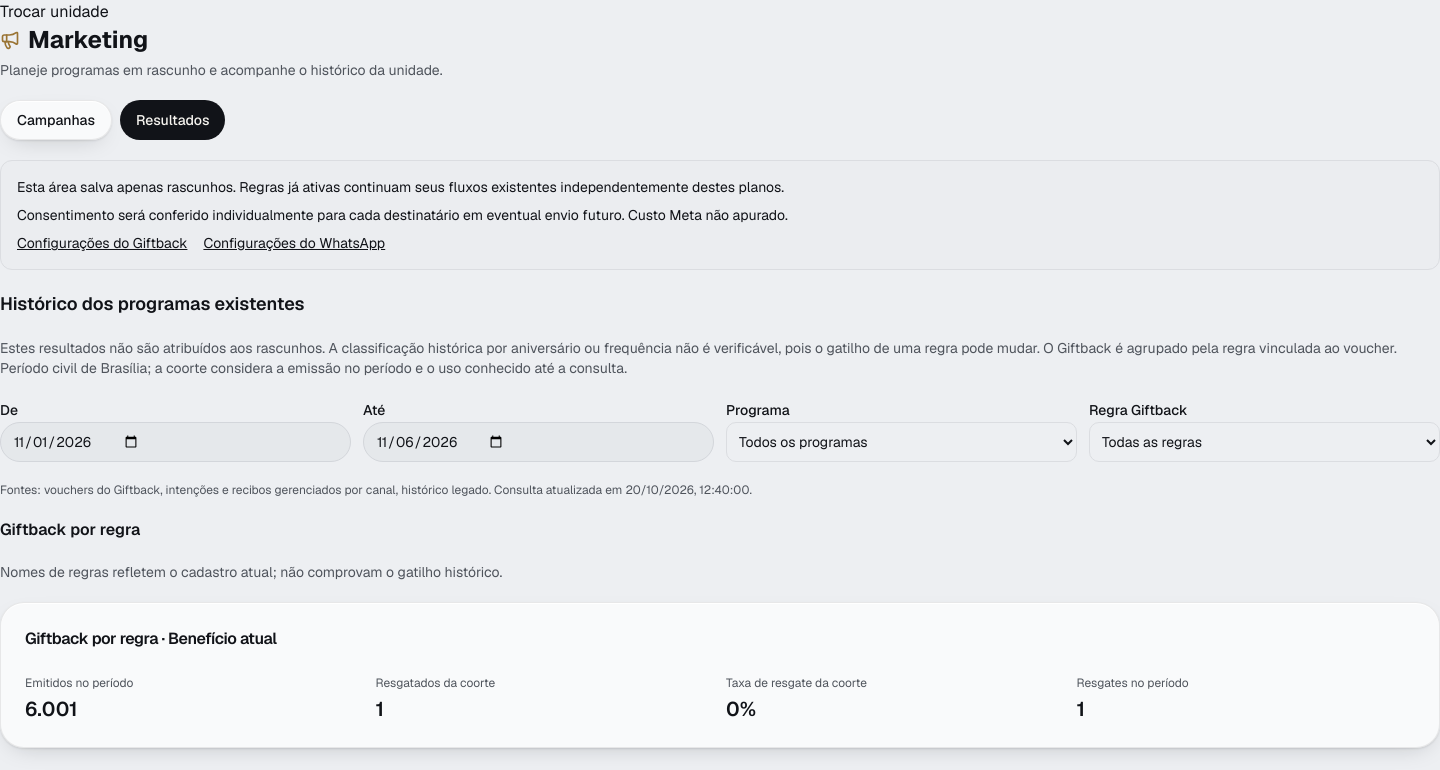
Marketing › agrupa Giftback por regra sem atribuir gatilho e preserva pesquisa ao filtrar regra
Expected: the text "classificação histórica por aniversário ou frequência não é verificável" is shown, [0,339,1397,377]
Expected: the text "6.001" is shown, [25,696,78,722]
Select "Benefício atual" in the dropdown labelled "Regra Giftback". click: (1264, 442)
box: [1089,422,1439,462]
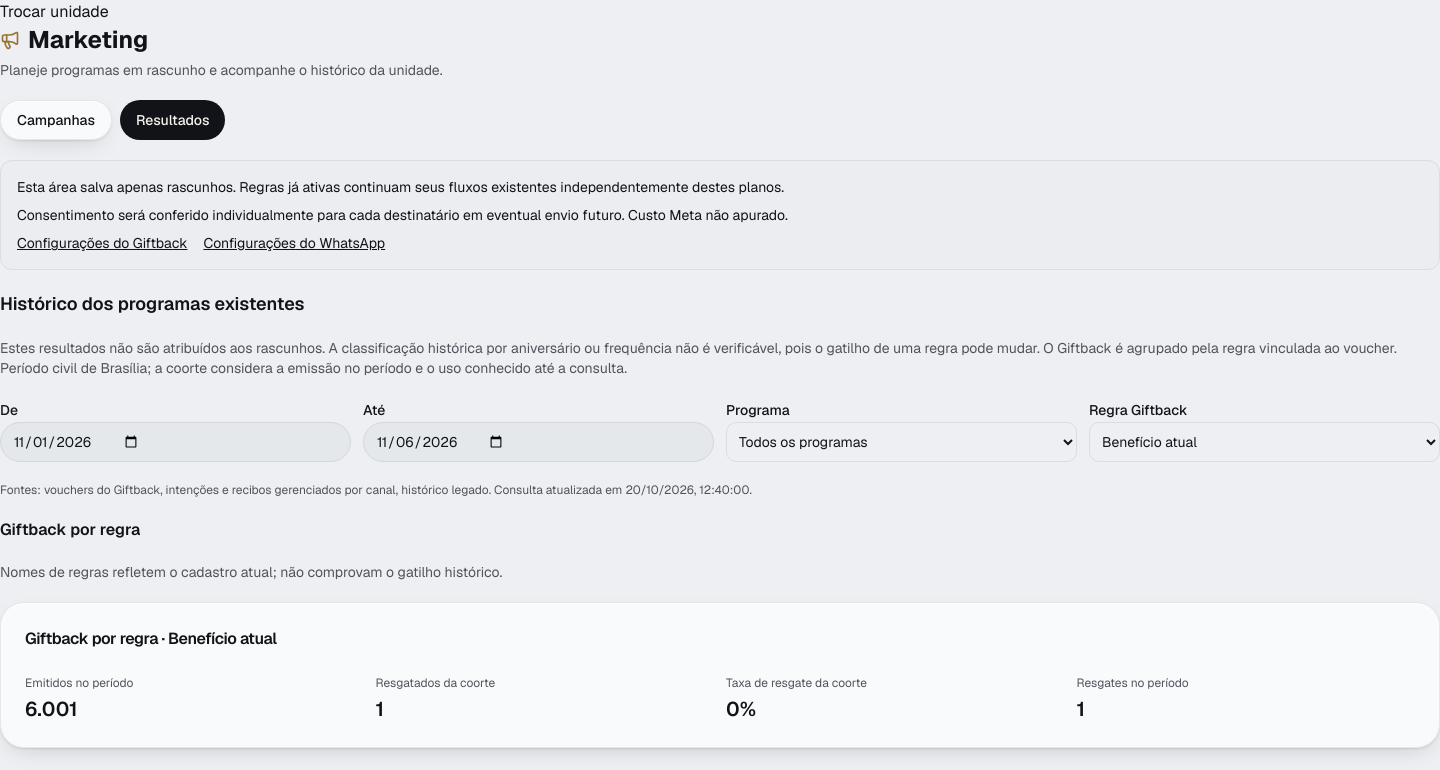
Select "Pesquisa após a fila" in the dropdown labelled "Programa". click: (902, 442)
box: [726,422,1077,462]
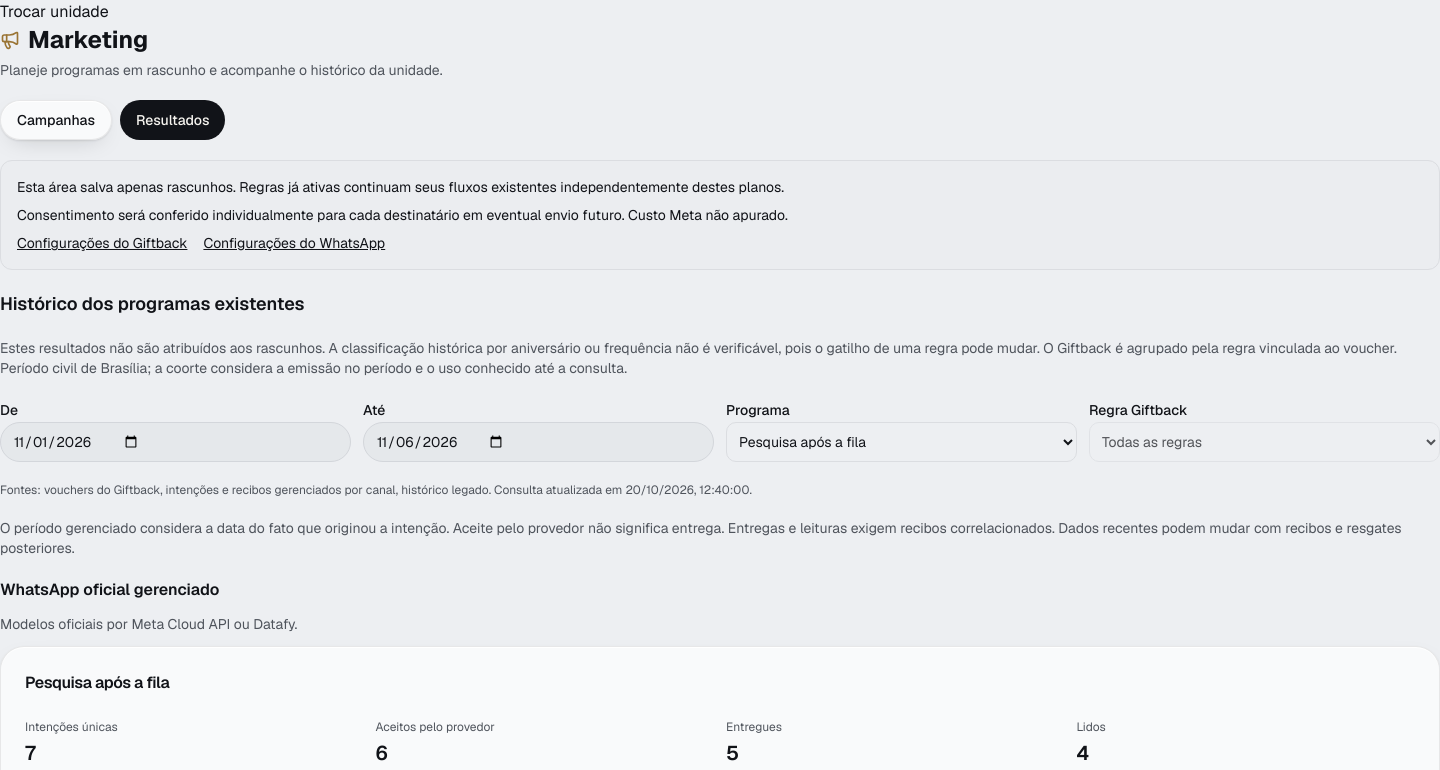
Expected: the dropdown labelled "Regra Giftback" is disabled, [1089,422,1439,462]
